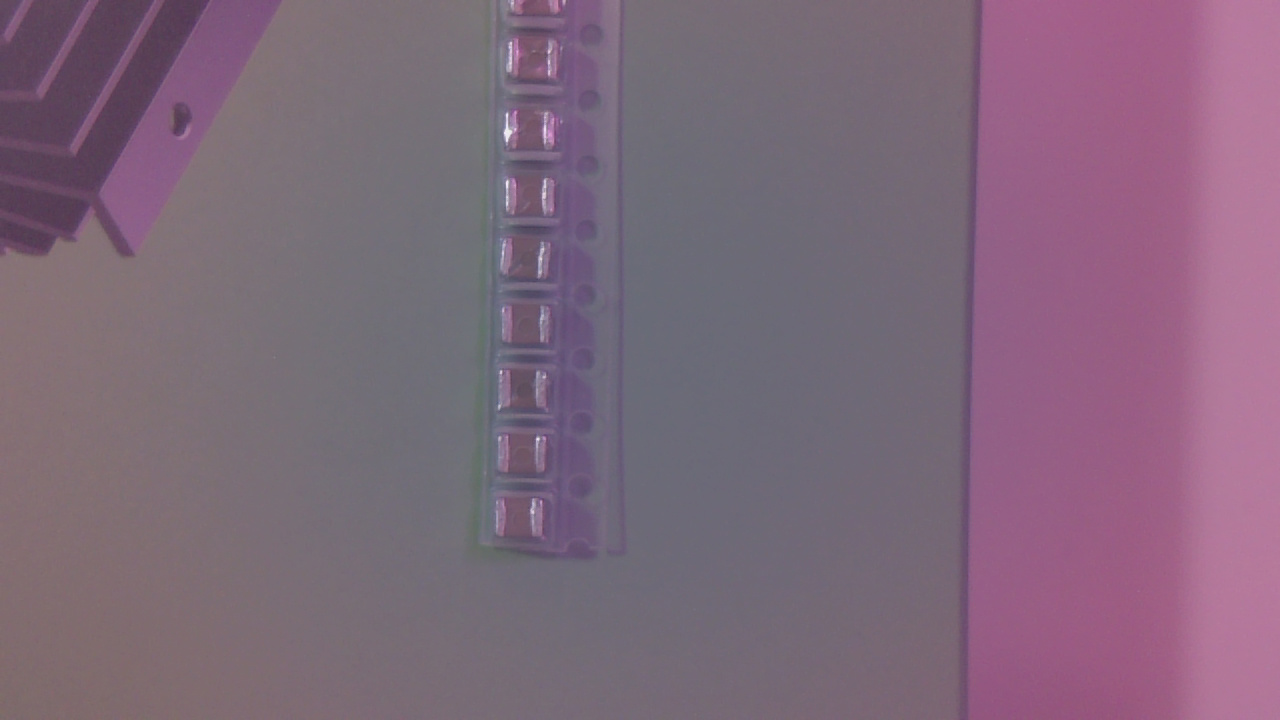Condensator: (510, 39, 569, 86), (502, 433, 557, 481), (507, 114, 565, 158), (507, 239, 558, 287), (503, 372, 557, 417), (506, 306, 558, 351), (508, 180, 563, 219), (501, 502, 548, 546)
